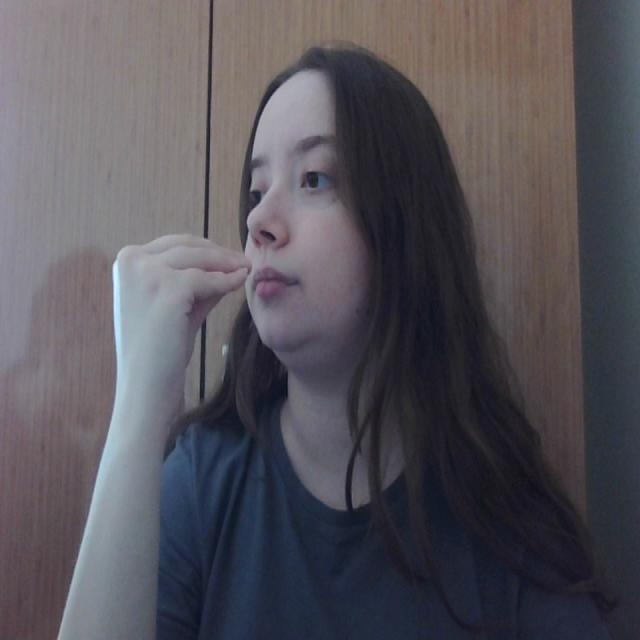Yemek: (106, 229, 313, 317)
